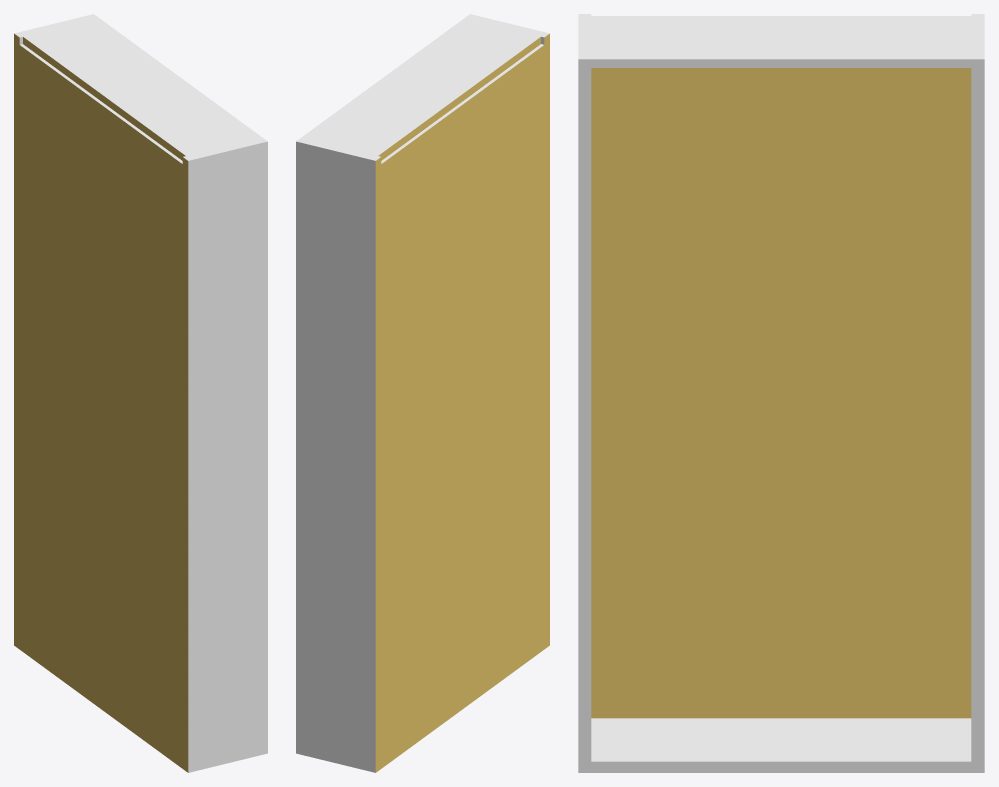
File: BgBox2.fbx
3 views of the same model, side by side, from view 1: azimuth 30°, elevation 25°; view 2: azimuth 150°, elevation 25°; view 3: azimuth 270°, elevation 25° (orthographic). The views are drawn at different scales.
Visible parts, largest first — view 1: Cube.014; view 2: Cube.014; view 3: Cube.014.
Part boxes in pixels (bbox=[...]): Cube.014: bbox=[14, 14, 267, 772]; Cube.014: bbox=[296, 14, 549, 772]; Cube.014: bbox=[578, 14, 984, 772].
Size of the model in its own units: 2.36 by 17.29 by 8.92.
